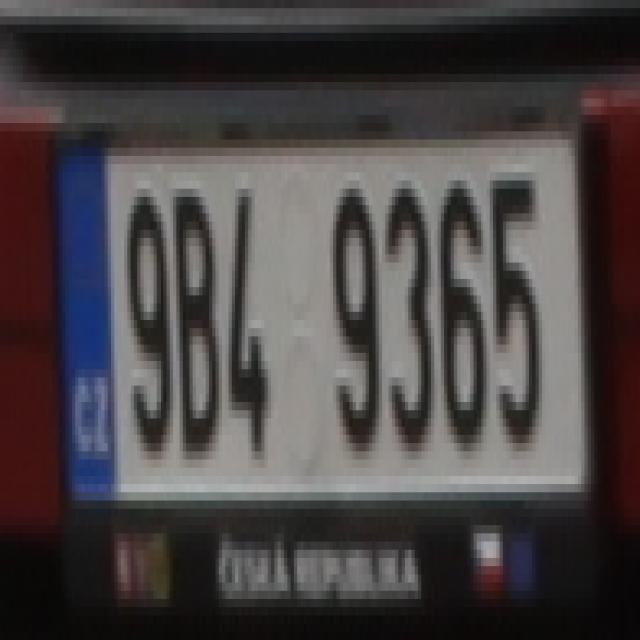3: (386, 172, 438, 435)
4: (222, 189, 271, 443)
5: (486, 164, 538, 443)
6: (438, 180, 490, 452)
9: (327, 180, 382, 452), (124, 197, 173, 459)
B: (170, 180, 219, 452)
